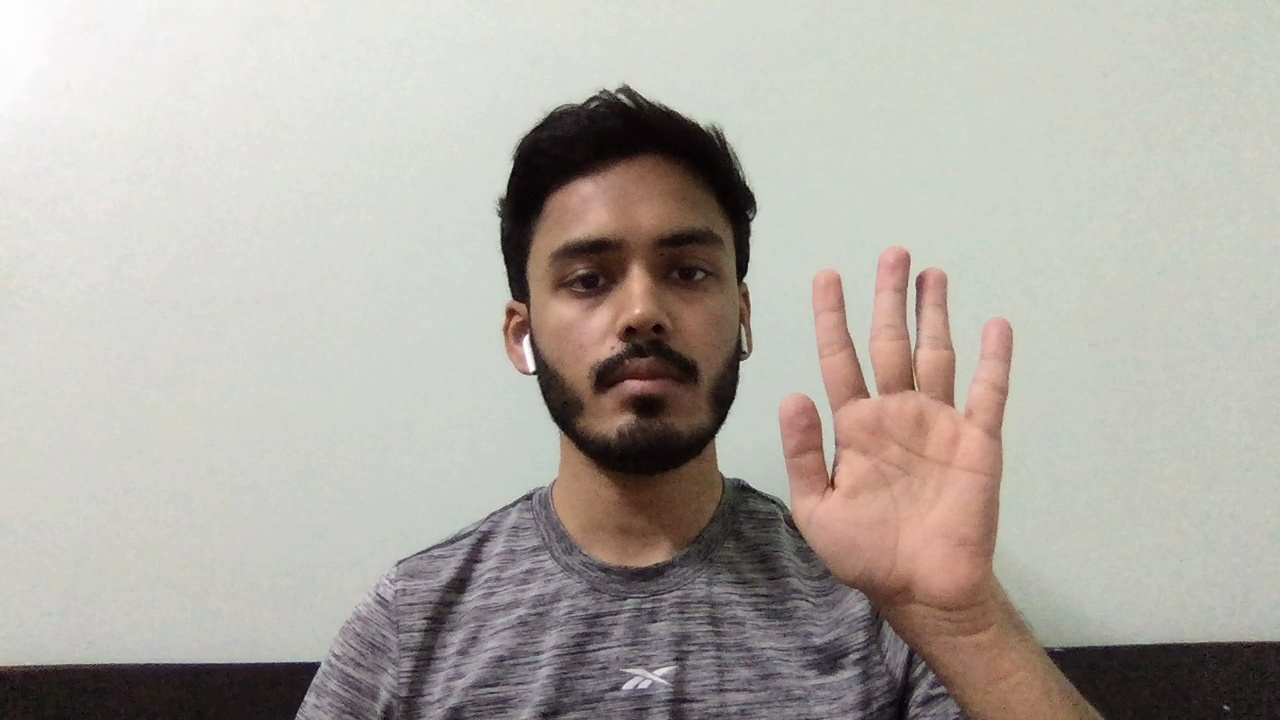Hello: (767, 240, 1025, 618)
